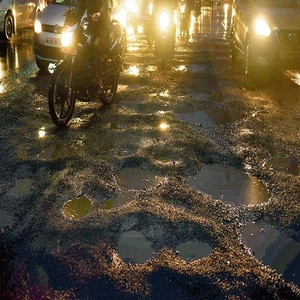pothole: (182, 155, 275, 209), (237, 214, 300, 292), (169, 223, 223, 273), (174, 103, 254, 130), (110, 222, 154, 270), (112, 158, 167, 192), (58, 193, 97, 220)
